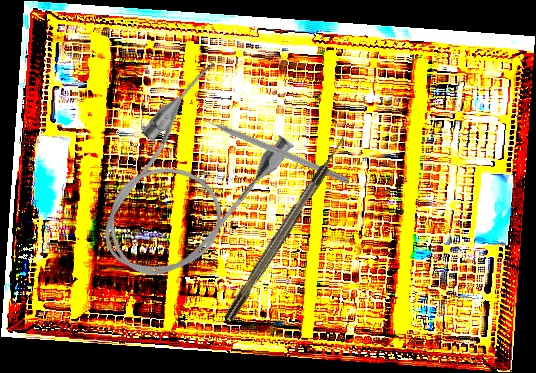Cannula: (70, 54, 304, 303)
Chopper: (193, 104, 354, 185)
Hook Surgical: (222, 134, 350, 322)
